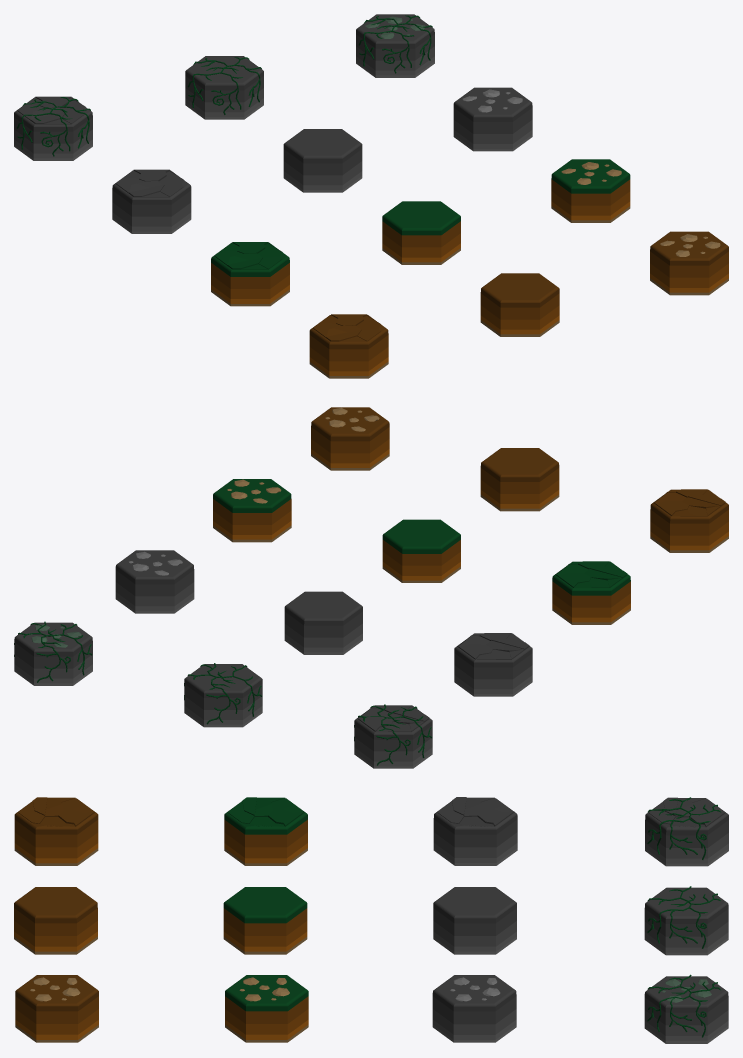
The model's file is LiD_GroundTiles.fbx.
3 views of the same model, one above another, from view 1: azimuth 30°, elevation 25°; view 2: azimuth 150°, elevation 25°; view 3: azimuth 270°, elevation 25° (orthographic). The views are drawn at different scales.
Visible parts, largest first — view 1: StoneTile.003, DirtTile.005, StoneTile.006, Moss.005, GrassTile.004, DirtTile.003, GrassTile.003, StoneTile.005, DirtTile.004, Moss.004, MossyStoneTile.003, GrassTile.005; view 2: DirtTile.004, StoneTile.003, Moss.005, Moss.004, MossyStoneTile.003, DirtTile.005, StoneTile.006, GrassTile.003, GrassTile.004, DirtTile.003, StoneTile.005, GrassTile.005; view 3: Moss.004, DirtTile.005, StoneTile.006, Moss.005, MossyStoneTile.003, GrassTile.004, StoneTile.003, GrassTile.005, DirtTile.004, GrassTile.003, DirtTile.003, StoneTile.005.
Part boxes in pixels (x1,y1,x2,y2): StoneTile.003: [453, 87, 532, 151]; DirtTile.005: [309, 314, 388, 378]; StoneTile.006: [112, 169, 191, 233]; Moss.005: [14, 96, 92, 160]; GrassTile.004: [211, 242, 289, 306]; DirtTile.003: [650, 231, 728, 295]; GrassTile.003: [551, 159, 630, 222]; StoneTile.005: [283, 129, 362, 192]; DirtTile.004: [480, 273, 559, 336]; Moss.004: [185, 56, 263, 119]; MossyStoneTile.003: [356, 14, 434, 77]; GrassTile.005: [382, 201, 460, 264]; DirtTile.004: [480, 448, 559, 511]; StoneTile.003: [115, 550, 194, 613]; Moss.005: [354, 704, 432, 768]; Moss.004: [184, 663, 262, 727]; MossyStoneTile.003: [14, 621, 92, 685]; DirtTile.005: [650, 489, 728, 552]; StoneTile.006: [454, 633, 532, 696]; GrassTile.003: [213, 479, 291, 542]; GrassTile.004: [552, 561, 630, 624]; DirtTile.003: [311, 407, 389, 470]; StoneTile.005: [284, 591, 362, 654]; GrassTile.005: [382, 519, 460, 582]; Moss.004: [644, 886, 728, 955]; DirtTile.005: [14, 797, 98, 865]; StoneTile.006: [433, 797, 517, 865]; Moss.005: [645, 797, 728, 866]; MossyStoneTile.003: [644, 974, 728, 1043]; GrassTile.004: [224, 797, 307, 865]; StoneTile.003: [432, 975, 516, 1042]; GrassTile.005: [223, 887, 307, 954]; DirtTile.004: [14, 887, 97, 954]; GrassTile.003: [225, 975, 308, 1042]; DirtTile.003: [15, 975, 98, 1042]; StoneTile.005: [433, 887, 516, 954].
Size of the model in its own units: 11.83 by 1.08 by 17.06.
